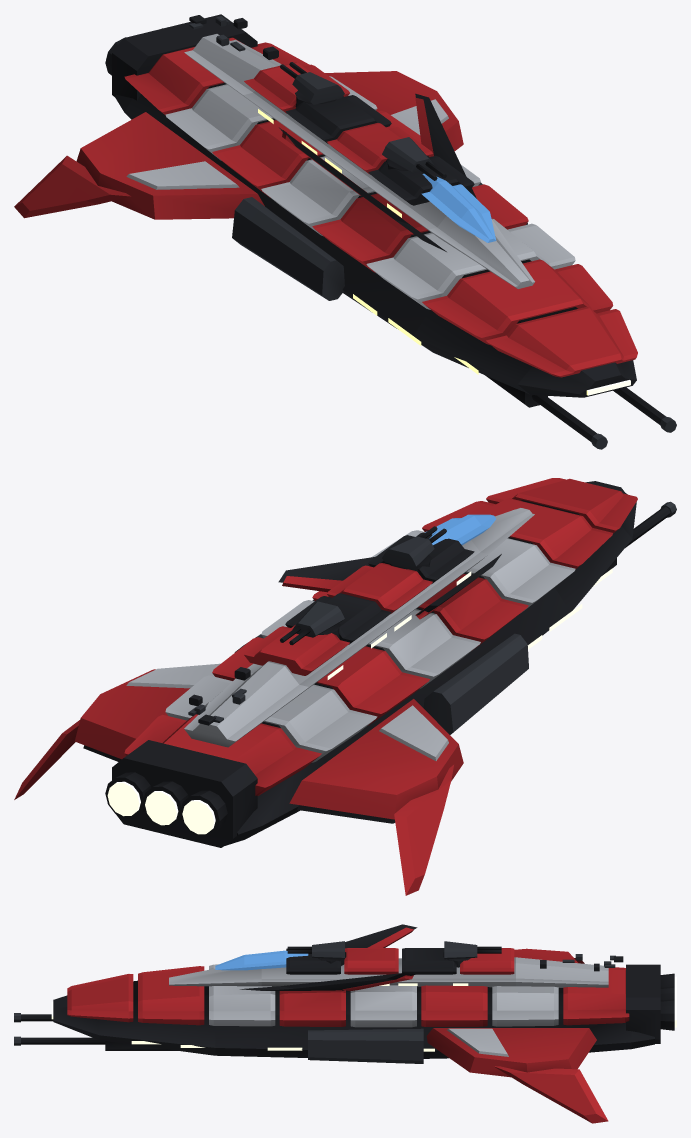
The model's file is gunship.glb.
The picture shows the model from 3 angles, top to bottom: view 1: azimuth 30°, elevation 25°; view 2: azimuth 150°, elevation 25°; view 3: azimuth 270°, elevation 25°; orthographic projection. The views are drawn at different scales.
Visible parts, largest first — view 1: hull_gunship; view 2: hull_gunship; view 3: hull_gunship.
Part boxes in pixels (x1=…): hull_gunship: x1=14, y1=14, x2=676, y2=449; hull_gunship: x1=14, y1=478, x2=676, y2=895; hull_gunship: x1=14, y1=924, x2=676, y2=1123.
Size of the model in its own units: 27.48 by 10.68 by 57.31.
